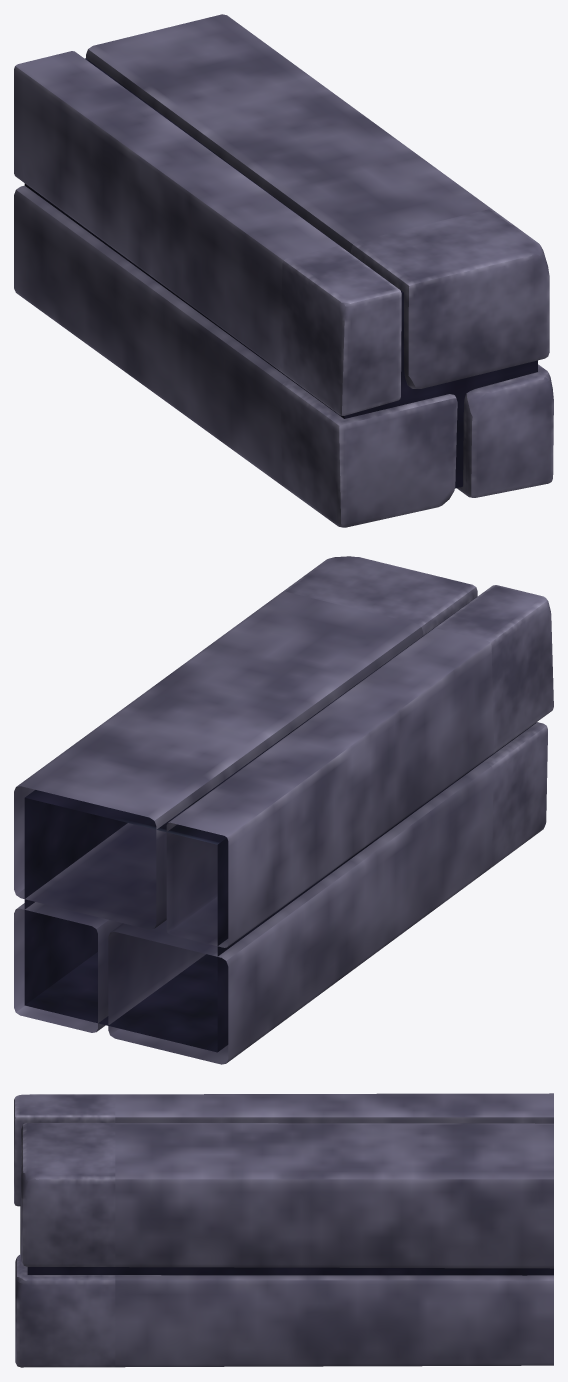
The model's file is Promenade_Fill_A.fbx.
3 renders of one model, top to bottom at view 1: azimuth 30°, elevation 25°; view 2: azimuth 150°, elevation 25°; view 3: azimuth 270°, elevation 25°, orthographic. The views are drawn at different scales.
Parts seen in each view (by area): view 1: Promenade_Fill_A; view 2: Promenade_Fill_A; view 3: Promenade_Fill_A.
Boxes of the visible parts, <box> form: Promenade_Fill_A: <box>14,14,553,527</box>; Promenade_Fill_A: <box>14,556,553,1064</box>; Promenade_Fill_A: <box>14,1093,553,1367</box>.
Bounding box in the file's own units: 0.9608 × 0.9873 × 2.52.
